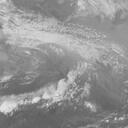cyclone: (33, 31, 121, 96)
